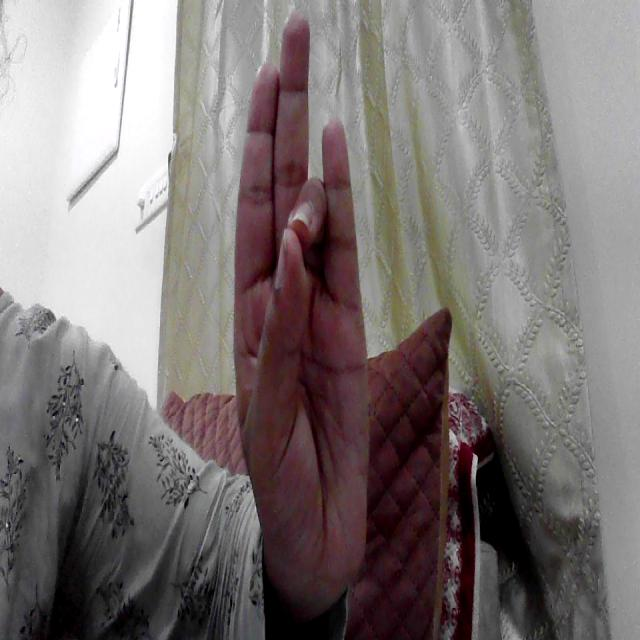Mayura: (223, 7, 391, 599)
